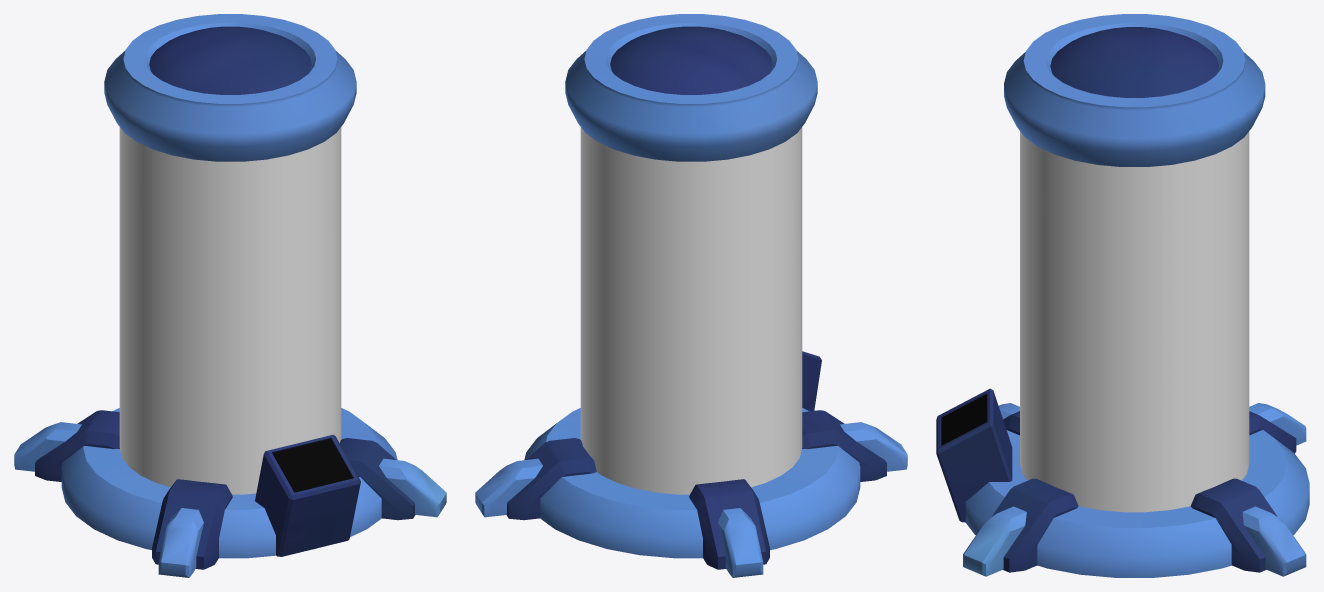
Rendered from Cuve.fbx.
3 renders of one model, left to right at view 1: azimuth 30°, elevation 25°; view 2: azimuth 150°, elevation 25°; view 3: azimuth 270°, elevation 25°, orthographic. The views are drawn at different scales.
Parts seen in each view (by area): view 1: Glass, Top, Detail_Base, Base, Panneau; view 2: Glass, Top, Base, Detail_Base, Panneau; view 3: Glass, Top, Base, Detail_Base, Panneau.
Part boxes in pixels (x1,y1,x2,y2): Glass: [119, 127, 341, 494]; Top: [104, 14, 356, 161]; Detail_Base: [14, 410, 446, 577]; Base: [61, 408, 397, 558]; Panneau: [255, 434, 360, 556]; Glass: [580, 127, 802, 494]; Top: [565, 14, 817, 161]; Base: [524, 408, 860, 558]; Detail_Base: [475, 410, 907, 577]; Panneau: [802, 351, 821, 411]; Glass: [1020, 131, 1249, 512]; Top: [1004, 14, 1265, 166]; Base: [965, 430, 1309, 577]; Detail_Base: [963, 403, 1306, 576]; Panneau: [936, 388, 1012, 522].
Bounding box in the file's own units: 1213 × 1773 × 1301.
